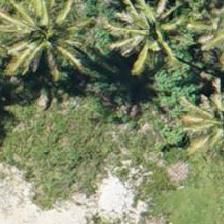coconut_tree: (112, 0, 202, 78), (0, 0, 87, 73), (173, 73, 223, 163)
